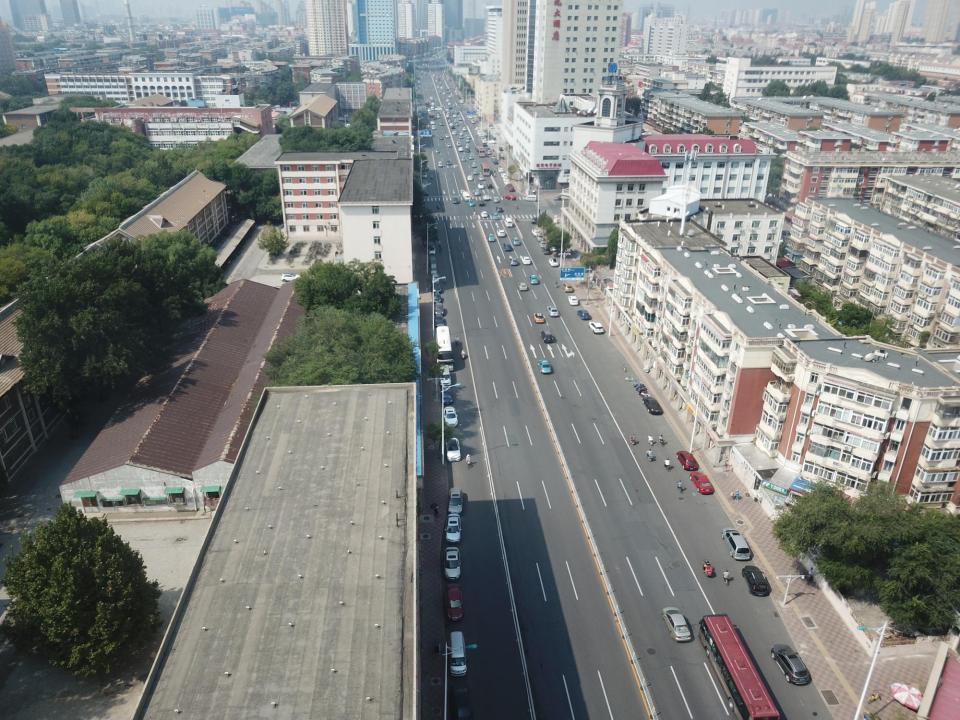bus: (698, 613, 783, 720), (480, 162, 491, 176), (474, 146, 486, 157)
car: (662, 606, 692, 642), (741, 565, 769, 597), (444, 582, 464, 623), (443, 547, 462, 580), (689, 471, 714, 495), (444, 513, 463, 543), (676, 450, 699, 471), (640, 396, 664, 416), (448, 487, 464, 514), (445, 436, 461, 461), (443, 406, 458, 427), (440, 387, 454, 405), (539, 328, 554, 344), (588, 322, 605, 336), (280, 273, 303, 282), (476, 130, 488, 147), (538, 359, 551, 374), (546, 305, 559, 318), (434, 313, 446, 327), (576, 309, 590, 320), (533, 312, 544, 324), (560, 283, 573, 293), (528, 274, 539, 285), (568, 295, 578, 306), (434, 302, 444, 313), (521, 255, 531, 265), (518, 281, 528, 291), (432, 283, 442, 293), (430, 274, 440, 284), (503, 242, 512, 253), (488, 132, 496, 144), (502, 195, 518, 201), (554, 196, 570, 202), (430, 262, 438, 274), (500, 174, 509, 184), (496, 228, 506, 237), (541, 247, 552, 255), (434, 292, 442, 303), (549, 258, 559, 266), (428, 245, 436, 255), (512, 237, 521, 245), (509, 258, 518, 266), (641, 128, 651, 135), (452, 196, 460, 204), (487, 234, 495, 242), (492, 212, 499, 221), (531, 229, 540, 236), (764, 190, 773, 197), (481, 211, 489, 218), (530, 216, 538, 223), (538, 240, 546, 247), (429, 256, 437, 263), (492, 156, 498, 165), (466, 200, 475, 206), (486, 147, 493, 154), (473, 189, 480, 196), (466, 175, 474, 181), (422, 171, 428, 179), (476, 182, 484, 188), (486, 183, 494, 189), (782, 230, 790, 236), (489, 123, 495, 130), (446, 160, 453, 166), (420, 145, 426, 152), (498, 166, 504, 173), (536, 235, 543, 241), (437, 160, 442, 168), (482, 195, 490, 200), (435, 147, 441, 153), (466, 133, 472, 139), (458, 146, 464, 152), (460, 156, 466, 162), (471, 162, 477, 168), (478, 200, 484, 206), (447, 142, 452, 148), (465, 144, 471, 149), (468, 154, 474, 159), (494, 197, 500, 202), (478, 177, 485, 181), (445, 133, 450, 138), (462, 126, 467, 131), (459, 131, 464, 136), (456, 141, 461, 146), (452, 131, 458, 135), (474, 126, 480, 130), (499, 146, 503, 152), (498, 208, 504, 212), (466, 148, 470, 153), (465, 139, 471, 142), (439, 136, 444, 139)
van: (771, 644, 813, 686), (720, 526, 751, 561), (435, 326, 455, 370), (449, 631, 467, 677), (438, 365, 452, 387), (504, 217, 513, 228), (524, 195, 537, 202), (462, 191, 470, 202), (503, 184, 514, 191)
